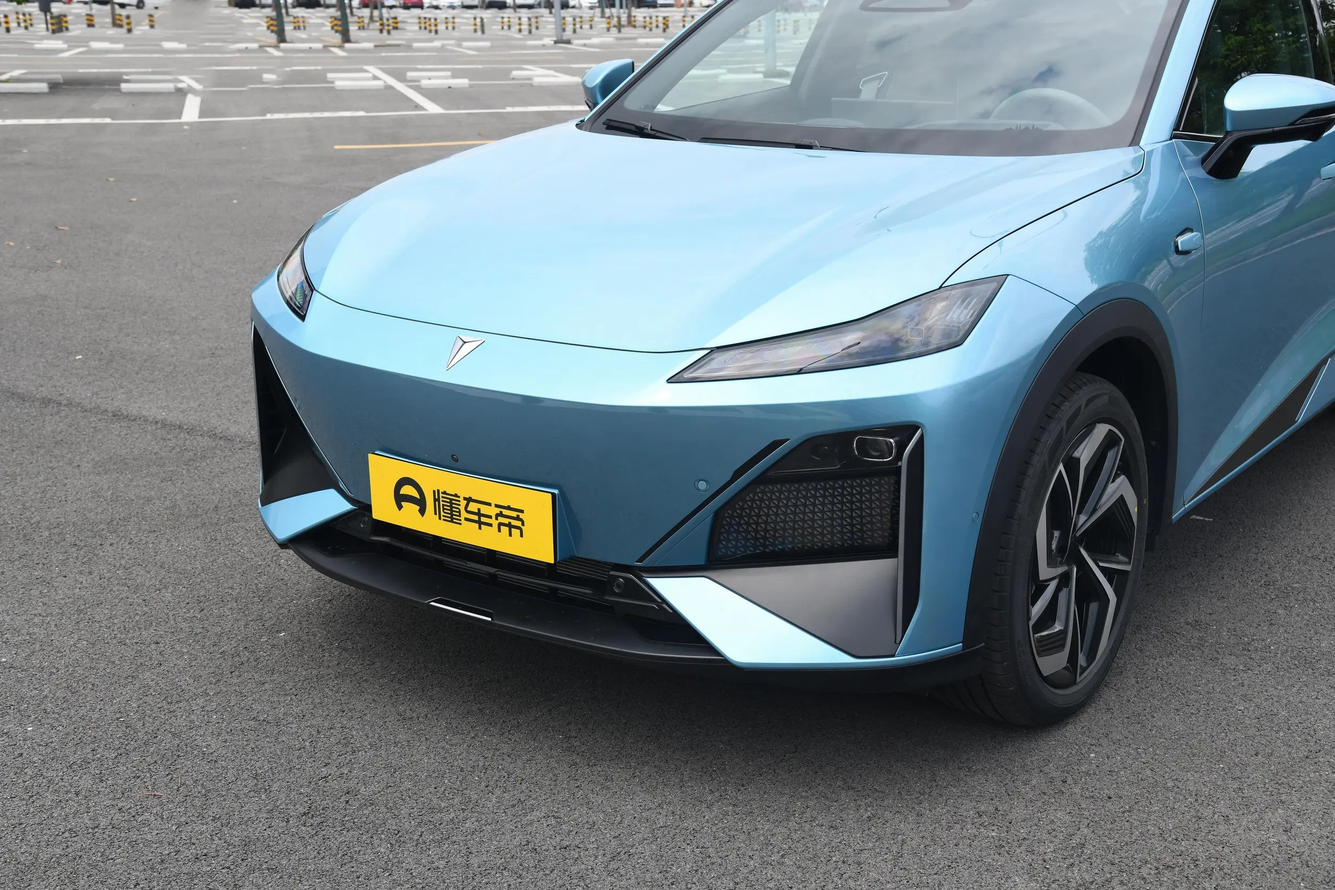Deepal: (445, 335, 484, 370)
